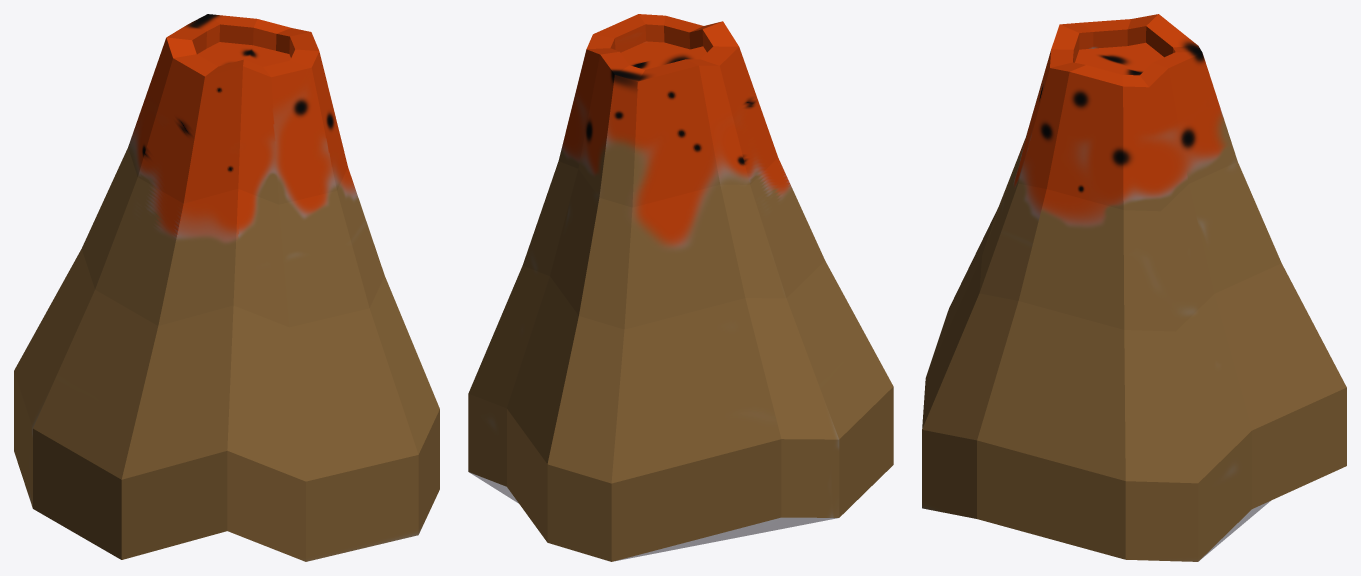
The model's file is Volcano.fbx.
3 views of the same model, side by side, from view 1: azimuth 30°, elevation 25°; view 2: azimuth 150°, elevation 25°; view 3: azimuth 270°, elevation 25° (orthographic). The views are drawn at different scales.
Parts seen in each view (by area): view 1: Volcano; view 2: Volcano; view 3: Volcano.
Boxes of the visible parts, <box> form: Volcano: <box>14,14,439,561</box>; Volcano: <box>468,14,893,561</box>; Volcano: <box>922,14,1346,561</box>.
Size of the model in its own units: 901 by 1054 by 908.
1 material, 1 textured.
